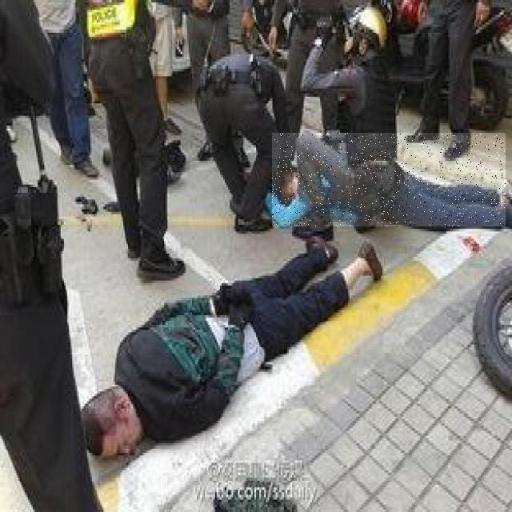Fall: (272, 133, 506, 226)
